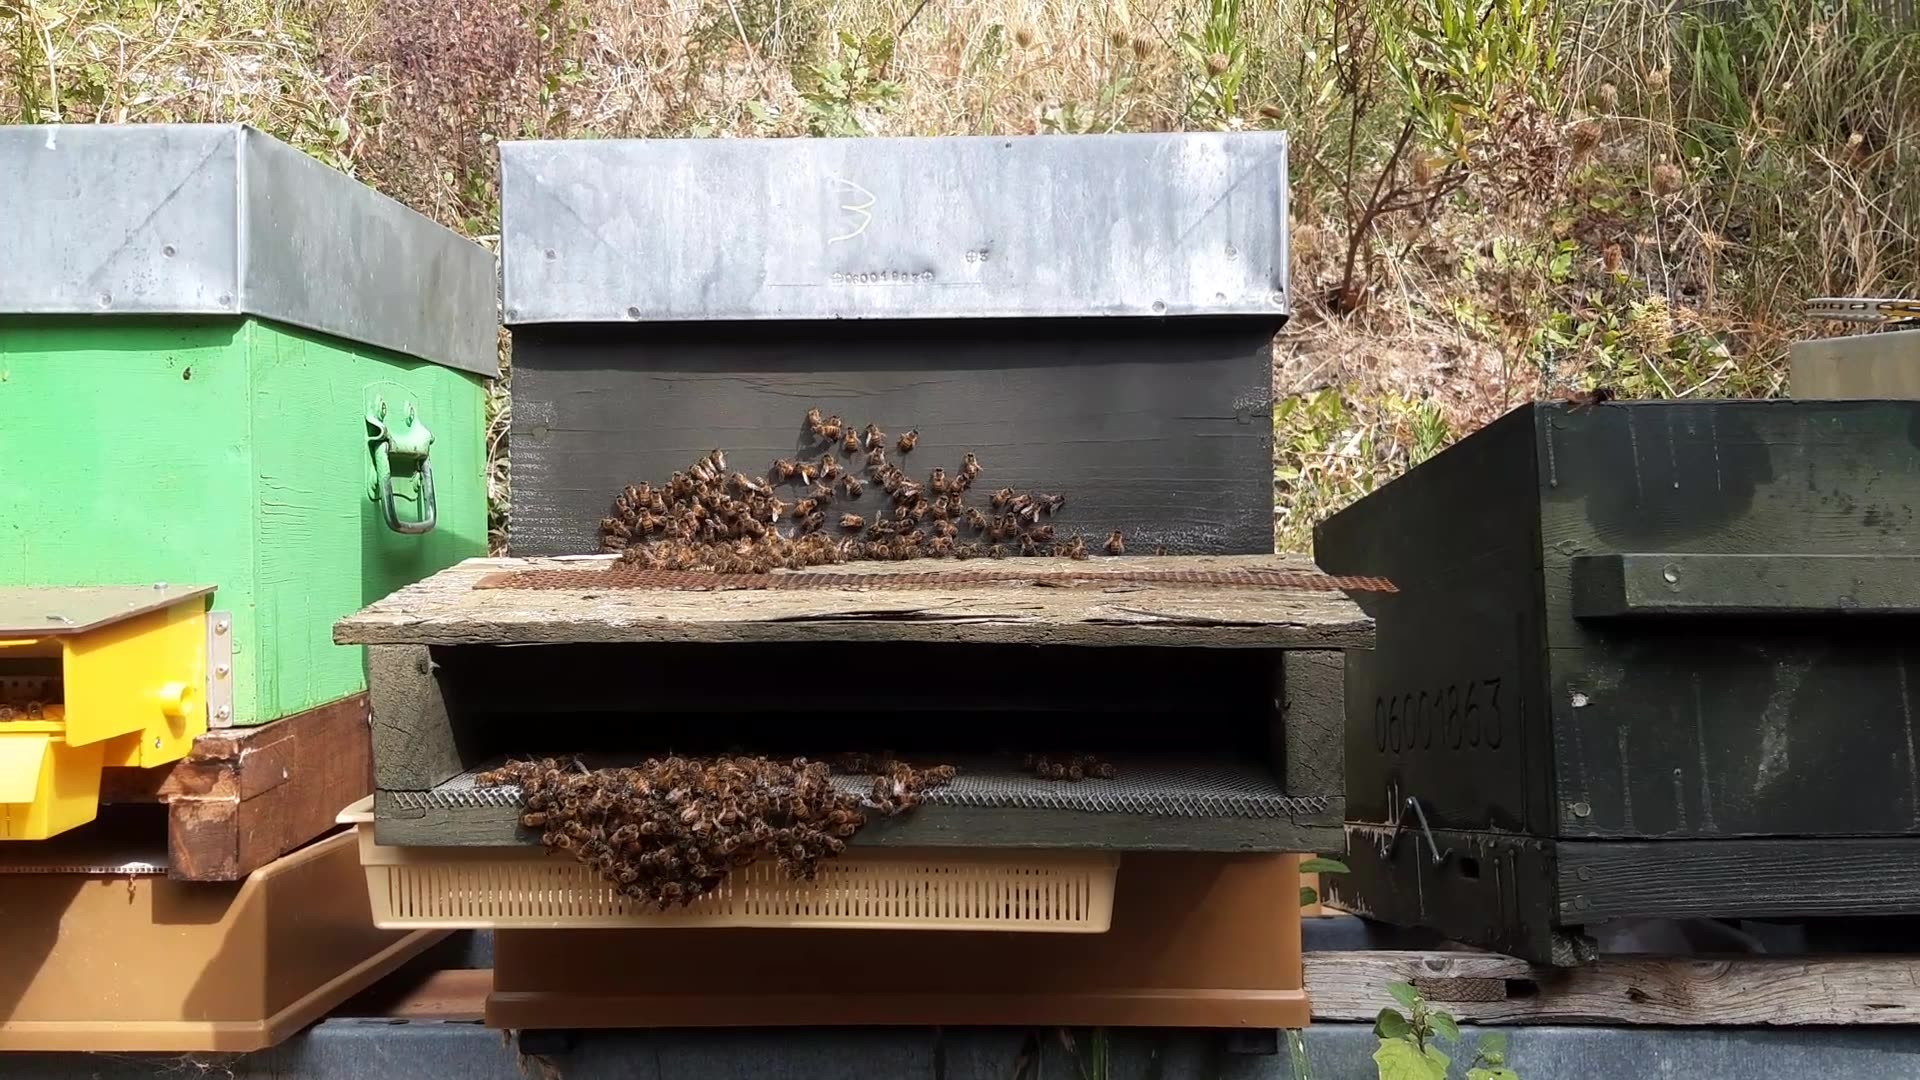bee: (636, 829, 723, 910), (607, 742, 748, 785), (848, 752, 956, 804), (808, 807, 891, 872), (496, 785, 578, 847), (702, 746, 800, 794), (996, 502, 1077, 554), (825, 509, 909, 559), (493, 753, 578, 799), (948, 510, 1030, 556), (750, 517, 823, 564), (737, 471, 807, 518), (607, 509, 673, 559), (828, 469, 893, 520), (789, 411, 844, 463), (934, 471, 992, 518), (812, 422, 870, 463), (658, 472, 708, 513)
